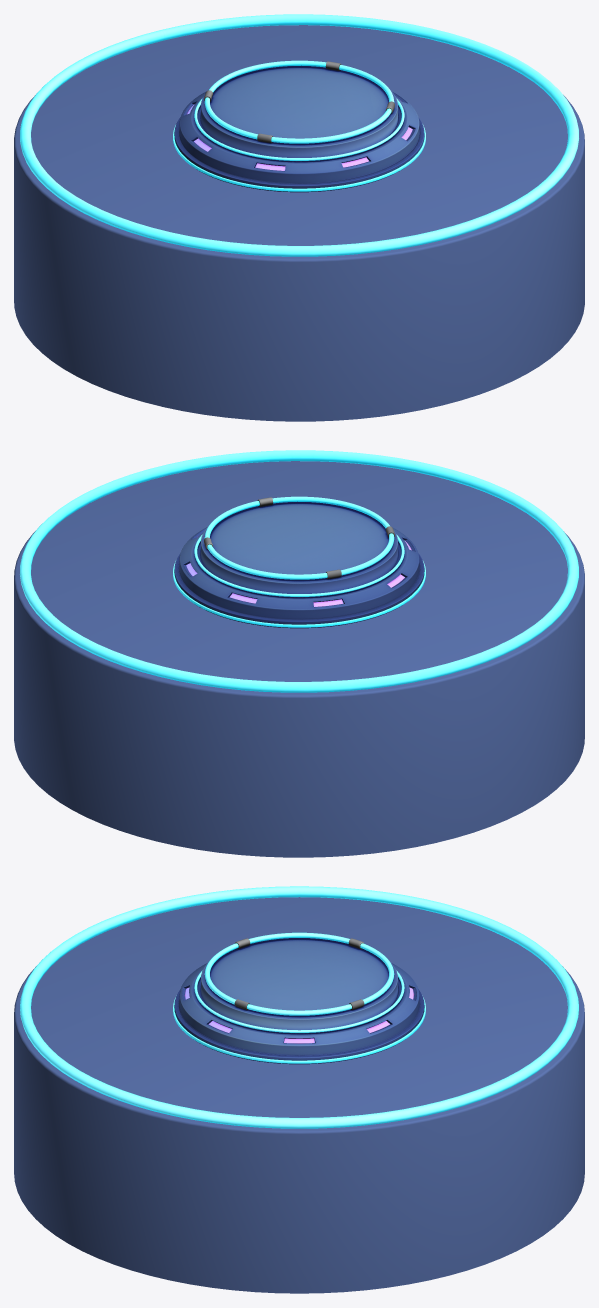
The picture shows the model from 3 angles, top to bottom: view 1: azimuth 30°, elevation 25°; view 2: azimuth 150°, elevation 25°; view 3: azimuth 270°, elevation 25°; orthographic projection.
Visible parts, largest first — view 1: RoomCreate_Stage; view 2: RoomCreate_Stage; view 3: RoomCreate_Stage.
Part boxes in pixels (bbox=[...]): RoomCreate_Stage: bbox=[14, 14, 584, 421]; RoomCreate_Stage: bbox=[14, 450, 584, 857]; RoomCreate_Stage: bbox=[14, 886, 584, 1293].
Size of the model in its own units: 3.97 by 1.55 by 3.97.
Materials: 2 (2 with a texture image).
